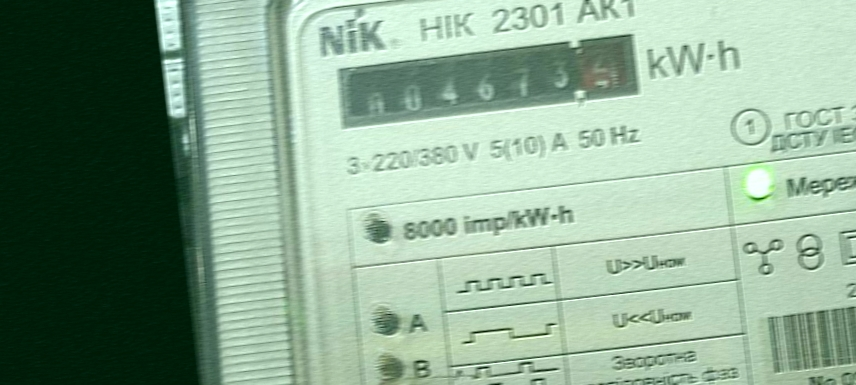0: (365, 88, 388, 121), (402, 82, 424, 115)
2: (588, 44, 611, 78)
3: (550, 58, 571, 94)
4: (439, 74, 461, 111)
6: (473, 70, 498, 106)
7: (511, 65, 537, 104)
screen: (331, 30, 647, 141)
